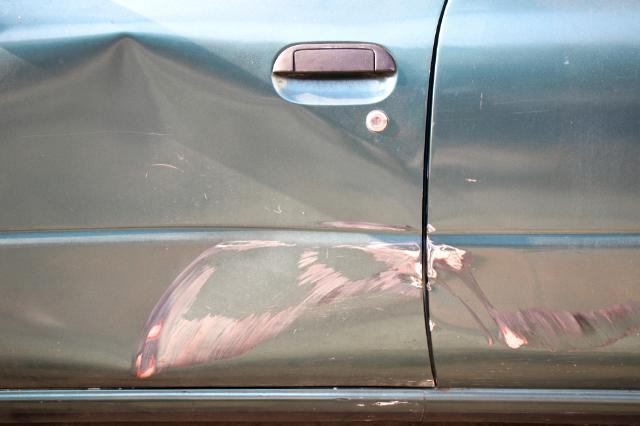Door: (0, 4, 427, 389), (424, 214, 640, 385)
